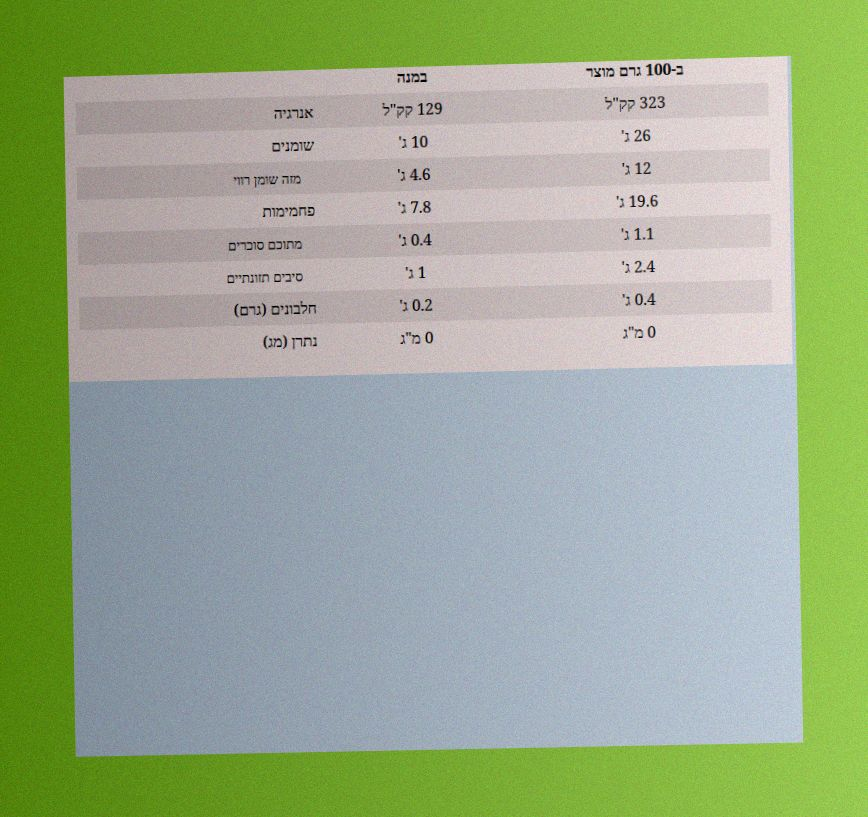carbs: (613, 187, 661, 215)
energy: (602, 89, 668, 117)
fat: (618, 122, 654, 149)
protein: (619, 286, 659, 313)
